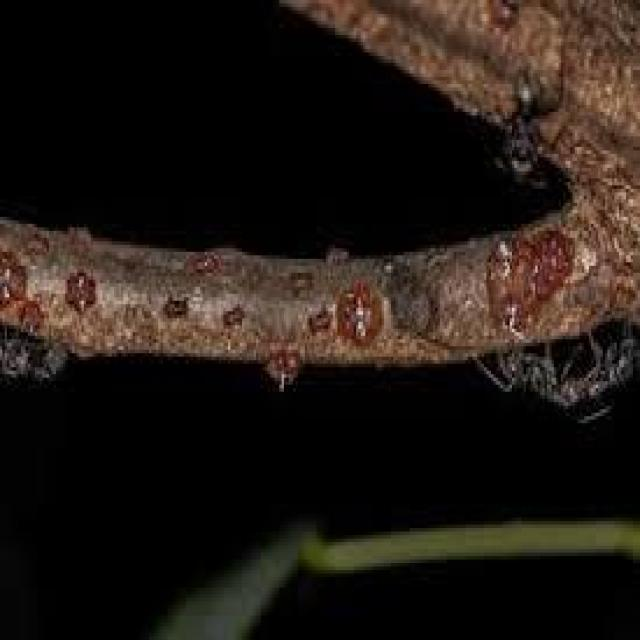Black Scale: (482, 224, 573, 336), (381, 246, 442, 336), (335, 280, 382, 346), (67, 273, 95, 311)
